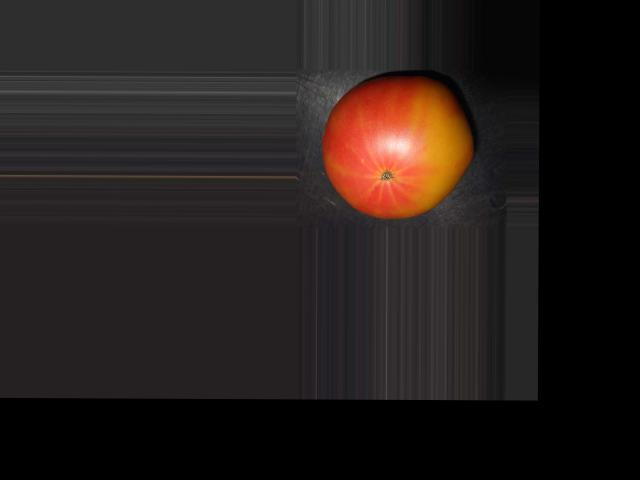tomato: (322, 74, 472, 219)
